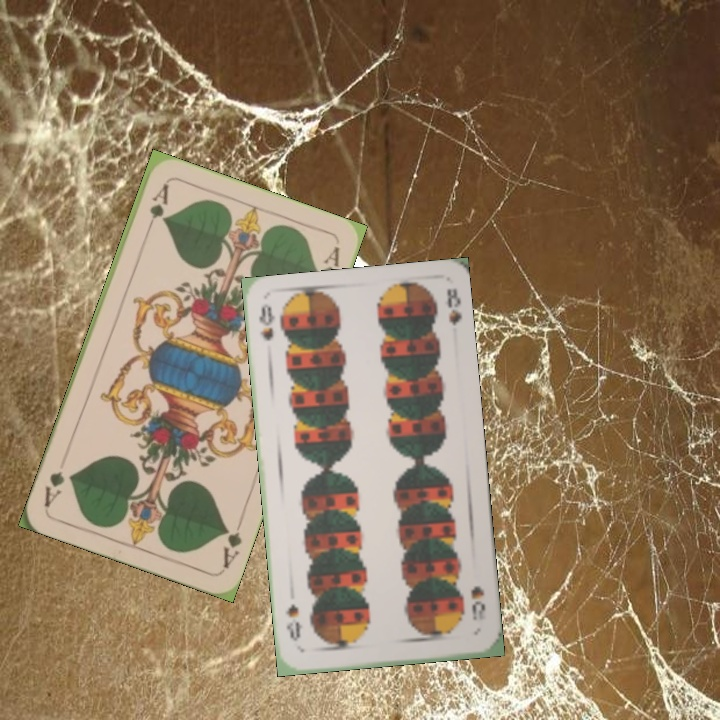GA: (142, 179, 171, 237), (219, 514, 246, 571)
S8: (255, 300, 278, 344), (466, 581, 488, 623)
